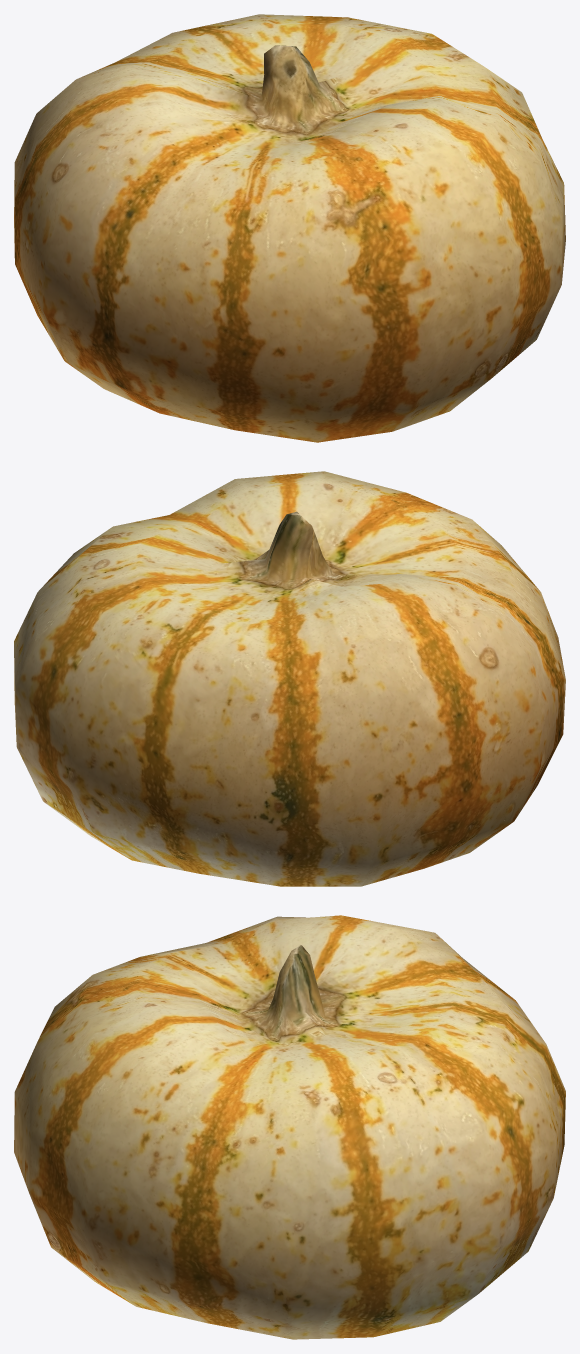
File: A84_Pumpkin_low.fbx
3 views of the same model, one above another, from view 1: azimuth 30°, elevation 25°; view 2: azimuth 150°, elevation 25°; view 3: azimuth 270°, elevation 25° (orthographic). The views are drawn at different scales.
Parts seen in each view (by area): view 1: A84_Pumpkin_low; view 2: A84_Pumpkin_low; view 3: A84_Pumpkin_low.
Boxes of the visible parts, x1,y1,x2,y2 form: A84_Pumpkin_low: (14,14,565,442); A84_Pumpkin_low: (14,471,565,886); A84_Pumpkin_low: (14,915,565,1339).
Bounding box in the file's own units: 34.06 × 33.18 × 21.72.
Materials: 1 (1 with a texture image).
